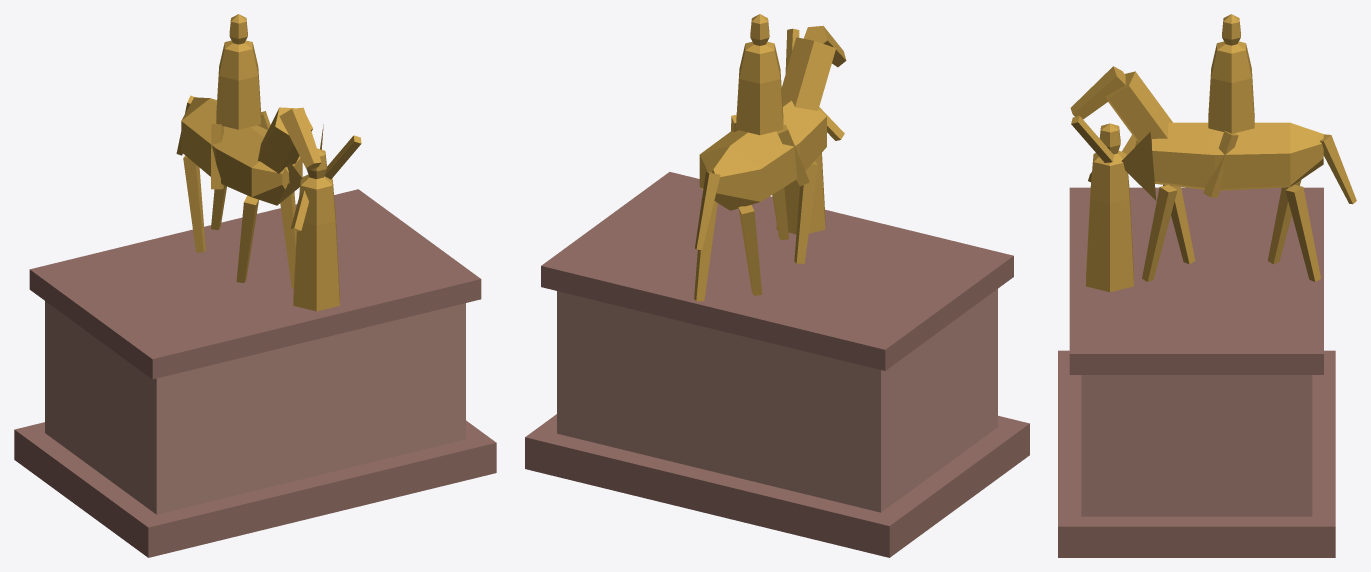
Rendered from sherman_monument.glb.
3 views of the same model, side by side, from view 1: azimuth 30°, elevation 25°; view 2: azimuth 150°, elevation 25°; view 3: azimuth 270°, elevation 25° (orthographic). The views are drawn at different scales.
Parts seen in each view (by area): view 1: sherman_monument; view 2: sherman_monument; view 3: sherman_monument.
Part boxes in pixels (<box>): sherman_monument: <box>14,14,496,557</box>; sherman_monument: <box>525,14,1029,557</box>; sherman_monument: <box>1058,14,1356,557</box>.
Bounding box in the file's own units: 7.2 × 8.7 × 5.17.
Materials: 1 (1 with a texture image).
